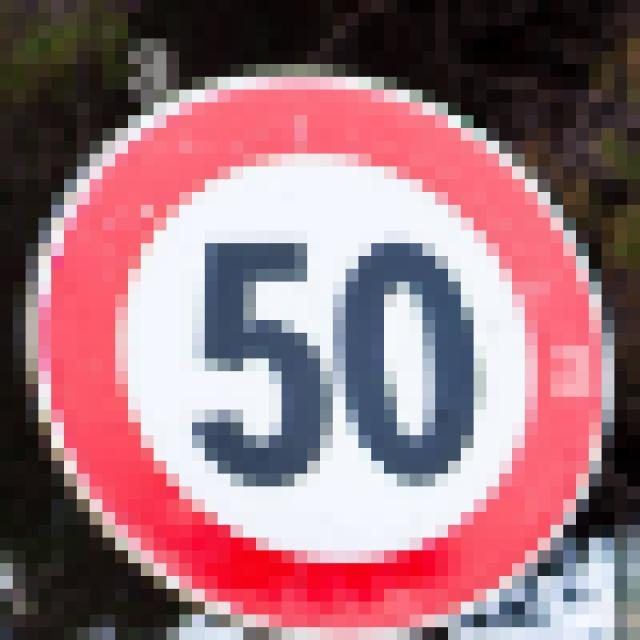Limite-50: (33, 72, 611, 636)
